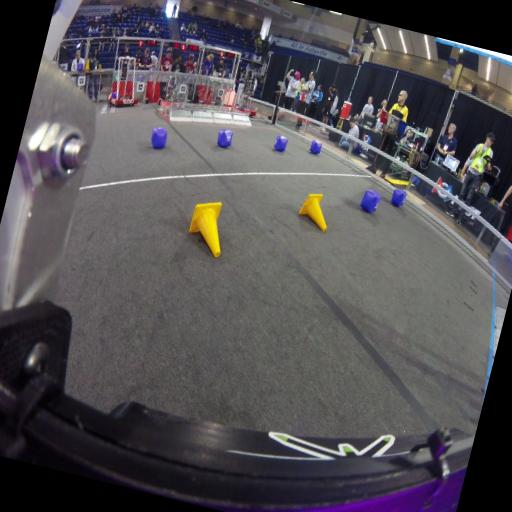robot: (104, 64, 144, 113)
